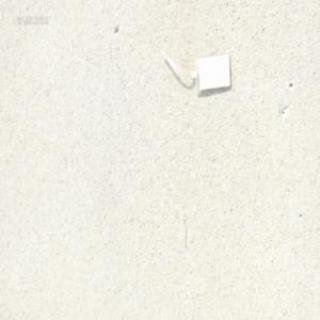LuggageTagtrack_idkeyframe: (156, 48, 232, 93)
